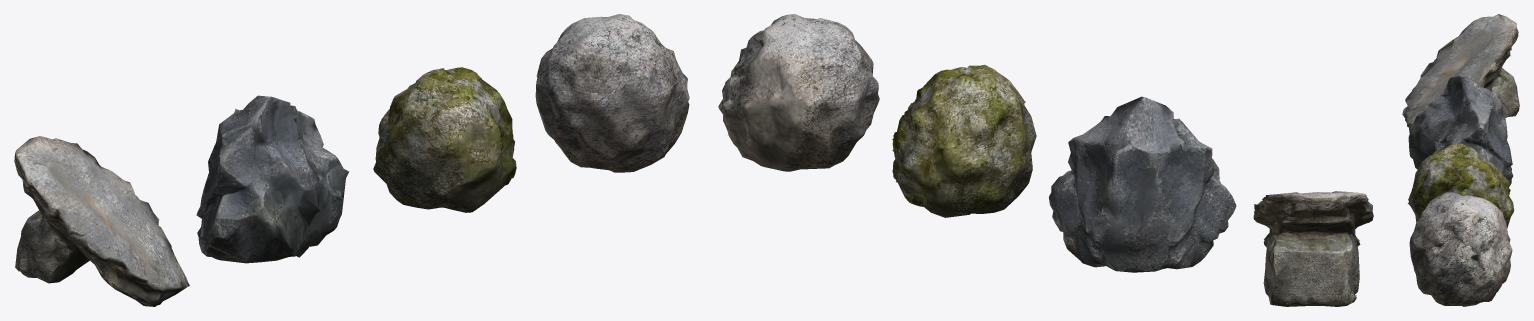
Rendered from rocks_boulder.glb.
The picture shows the model from 3 angles, left to right: view 1: azimuth 30°, elevation 25°; view 2: azimuth 150°, elevation 25°; view 3: azimuth 270°, elevation 25°; orthographic projection. The views are drawn at different scales.
Visible parts, largest first — view 1: slate, granite, slab, mossy; view 2: slate, granite, mossy, slab; view 3: granite, slate, slab, mossy.
Part boxes in pixels (x1=…): slate: x1=196, y1=95, x2=348, y2=263; granite: x1=535, y1=14, x2=689, y2=172; slab: x1=14, y1=136, x2=189, y2=306; mossy: x1=373, y1=67, x2=516, y2=212; slate: x1=1049, y1=96, x2=1236, y2=272; granite: x1=718, y1=14, x2=879, y2=171; mossy: x1=892, y1=64, x2=1036, y2=217; slab: x1=1253, y1=191, x2=1373, y2=306; granite: x1=1409, y1=191, x2=1512, y2=306; slate: x1=1408, y1=75, x2=1513, y2=186; slab: x1=1402, y1=14, x2=1519, y2=127; mossy: x1=1408, y1=143, x2=1514, y2=228.
Size of the model in its own units: 1.1 by 0.2451 by 0.2492.
Materials: 1 (1 with a texture image).
